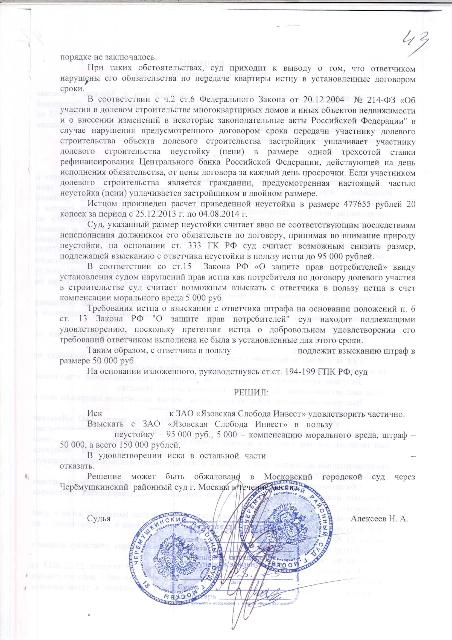stamp: (128, 512, 221, 606), (238, 480, 332, 572)
